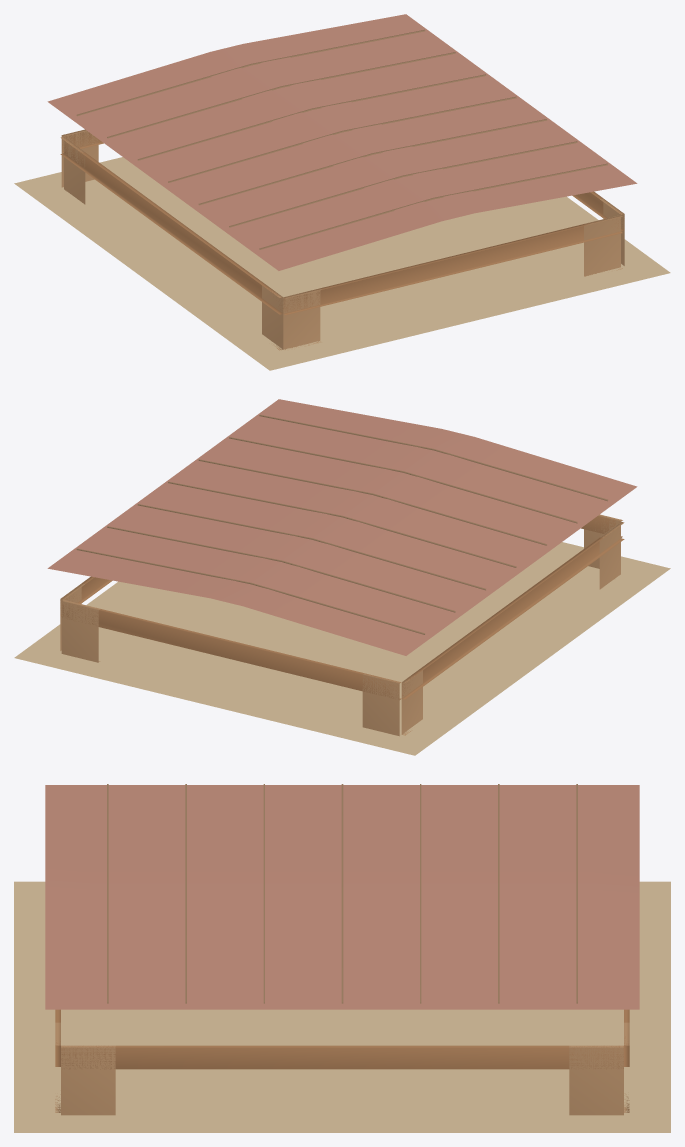
The model's file is env_lod1.glb.
The picture shows the model from 3 angles, top to bottom: view 1: azimuth 30°, elevation 25°; view 2: azimuth 150°, elevation 25°; view 3: azimuth 270°, elevation 25°; orthographic projection. The views are drawn at different scales.
Parts seen in each view (by area): view 1: dojo_hall, dojo_floor; view 2: dojo_hall, dojo_floor; view 3: dojo_hall, dojo_floor.
Boxes of the visible parts, x1=… form: dojo_hall: x1=47, y1=14, x2=637, y2=350; dojo_floor: x1=14, y1=157, x2=670, y2=370; dojo_hall: x1=47, y1=399, x2=637, y2=736; dojo_floor: x1=14, y1=542, x2=670, y2=755; dojo_hall: x1=45, y1=784, x2=639, y2=1115; dojo_floor: x1=14, y1=881, x2=670, y2=1132.
Size of the model in its own units: 76 by 17.6 by 84.
